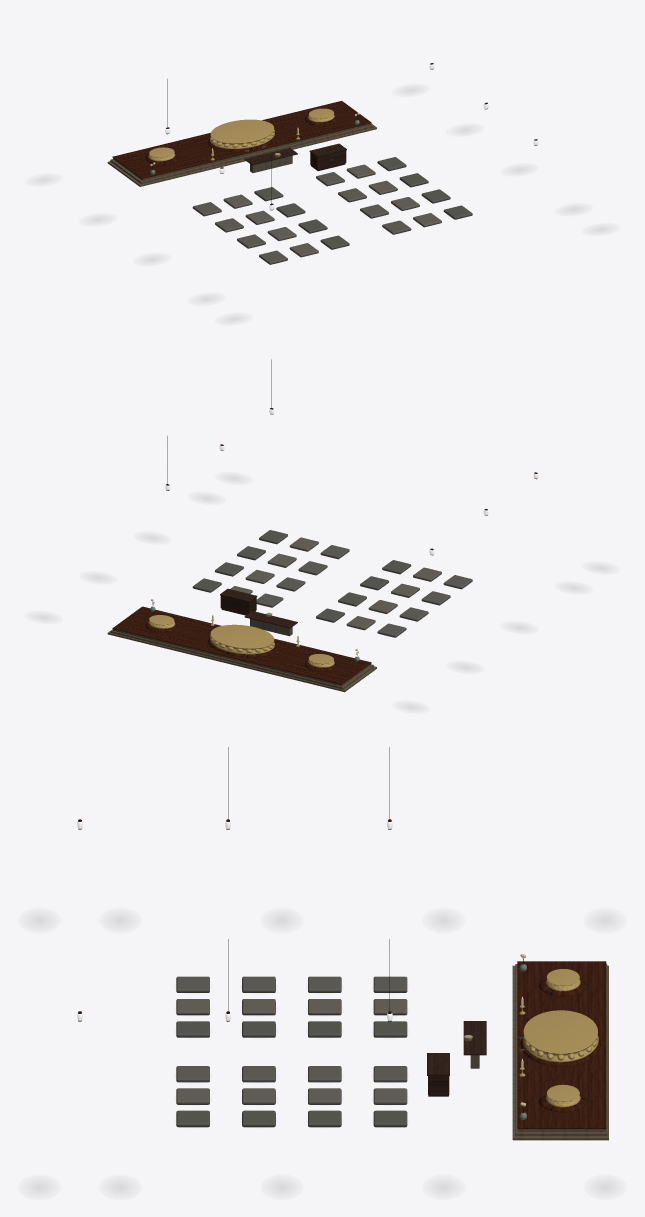
The model's file is hall-interior.gltf.
3 renders of one model, top to bottom at view 1: azimuth 30°, elevation 25°; view 2: azimuth 150°, elevation 25°; view 3: azimuth 270°, elevation 25°, orthographic. The views are drawn at different scales.
Visible parts, largest first — view 1: deep walnut joinery, aged bronze offering details (×2), woven Korean floor cushion 2, woven Korean floor cushion 1, woven Korean floor cushion 0, dressed stone foundation, offering chest matte walnut offering chest; view 2: deep walnut joinery, aged bronze offering details (×2), woven Korean floor cushion 0, woven Korean floor cushion 2, dressed stone foundation, woven Korean floor cushion 1; view 3: deep walnut joinery, woven Korean floor cushion 2, aged bronze offering details (×2), woven Korean floor cushion 0, woven Korean floor cushion 1, dressed stone foundation, incense tabletop.
Boxes of the visible parts, left/top/right/bottom form: deep walnut joinery: left=112, top=101, right=371, bottom=178; aged bronze offering details (×2): left=148, top=108, right=334, bottom=161; woven Korean floor cushion 2: left=254, top=157, right=472, bottom=249; woven Korean floor cushion 1: left=223, top=164, right=441, bottom=257; woven Korean floor cushion 0: left=192, top=172, right=411, bottom=264; dressed stone foundation: left=107, top=123, right=376, bottom=186; offering chest matte walnut offering chest: left=310, top=150, right=346, bottom=169; deep walnut joinery: left=112, top=606, right=371, bottom=684; aged bronze offering details (×2): left=148, top=615, right=334, bottom=667; woven Korean floor cushion 0: left=256, top=545, right=472, bottom=637; woven Korean floor cushion 2: left=192, top=530, right=411, bottom=622; dressed stone foundation: left=107, top=629, right=376, bottom=692; woven Korean floor cushion 1: left=230, top=537, right=441, bottom=630; deep walnut joinery: left=517, top=961, right=606, bottom=1128; woven Korean floor cushion 2: left=176, top=1021, right=407, bottom=1127; aged bronze offering details (×2): left=519, top=969, right=598, bottom=1107; woven Korean floor cushion 0: left=176, top=976, right=407, bottom=1082; woven Korean floor cushion 1: left=176, top=999, right=407, bottom=1104; dressed stone foundation: left=512, top=964, right=608, bottom=1140; incense tabletop: left=463, top=1021, right=486, bottom=1055.
Bounding box in the file's own units: 21.96 × 7.26 × 19.24.
